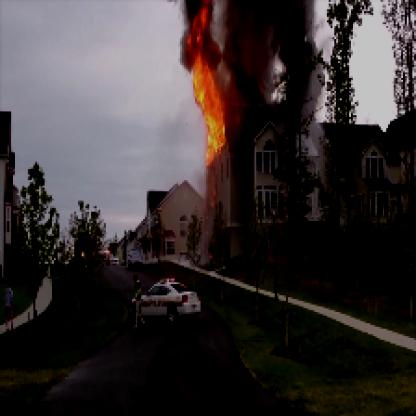Fire: (188, 2, 228, 161)
Smoke: (219, 2, 314, 119)
